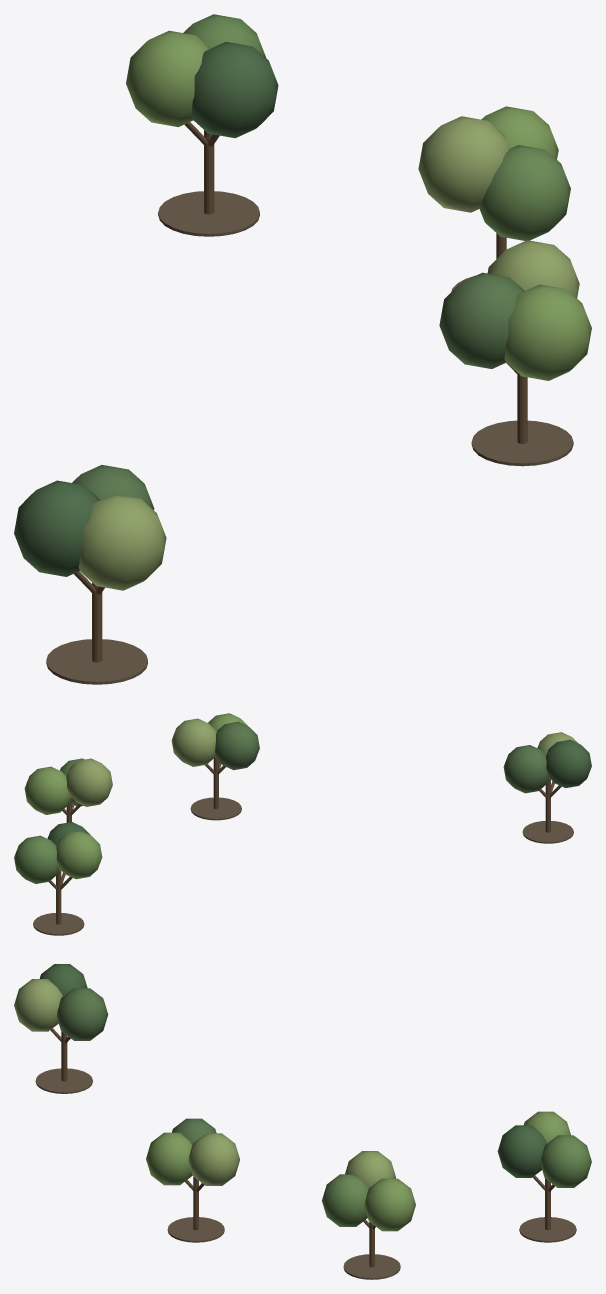
Rendered from orchard_standard.glb.
The picture shows the model from 3 angles, top to bottom: view 1: azimuth 30°, elevation 25°; view 2: azimuth 150°, elevation 25°; view 3: azimuth 270°, elevation 25°; orthographic projection. The views are drawn at different scales.
Parts seen in each view (by area): view 1: orchard_standard_Listí 3.001, orchard_standard_Listí 2.001, orchard_standard_Listí 0.001, orchard_standard_Hrana půdního profilu, orchard_standard_Listí 1.001, orchard_standard_Listí 4.001, orchard_standard_Kůra ovocných stromů; view 2: orchard_standard_Listí 3.001, orchard_standard_Listí 2.001, orchard_standard_Listí 4.001, orchard_standard_Hrana půdního profilu, orchard_standard_Listí 0.001, orchard_standard_Listí 1.001, orchard_standard_Kůra ovocných stromů; view 3: orchard_standard_Listí 3.001, orchard_standard_Listí 2.001, orchard_standard_Hrana půdního profilu, orchard_standard_Listí 1.001, orchard_standard_Listí 0.001, orchard_standard_Listí 4.001, orchard_standard_Kůra ovocných stromů.
Part boxes in pixels (<box>): orchard_standard_Listí 3.001: <box>78,116,579,590</box>; orchard_standard_Listí 2.001: <box>126,30,591,380</box>; orchard_standard_Listí 0.001: <box>14,41,278,576</box>; orchard_standard_Hrana půdního profilu: <box>46,191,573,684</box>; orchard_standard_Listí 1.001: <box>183,14,570,240</box>; orchard_standard_Listí 4.001: <box>72,272,524,509</box>; orchard_standard_Kůra ovocných stromů: <box>74,122,527,662</box>; orchard_standard_Listí 3.001: <box>66,718,577,806</box>; orchard_standard_Listí 2.001: <box>24,713,247,879</box>; orchard_standard_Listí 4.001: <box>215,721,548,793</box>; orchard_standard_Hrana půdního profilu: <box>33,797,573,935</box>; orchard_standard_Listí 0.001: <box>47,739,591,845</box>; orchard_standard_Listí 1.001: <box>14,758,84,883</box>; orchard_standard_Kůra ovocných stromů: <box>49,758,561,924</box>; orchard_standard_Listí 3.001: <box>14,979,395,1188</box>; orchard_standard_Listí 2.001: <box>146,1111,570,1231</box>; orchard_standard_Hrana půdního profilu: <box>35,1068,576,1279</box>; orchard_standard_Listí 1.001: <box>322,1135,591,1226</box>; orchard_standard_Listí 0.001: <box>39,964,546,1177</box>; orchard_standard_Listí 4.001: <box>57,988,216,1144</box>; orchard_standard_Kůra ovocných stromů: <box>50,1028,554,1267</box>.
Size of the model in its own units: 12.12 by 2.78 by 13.15.
